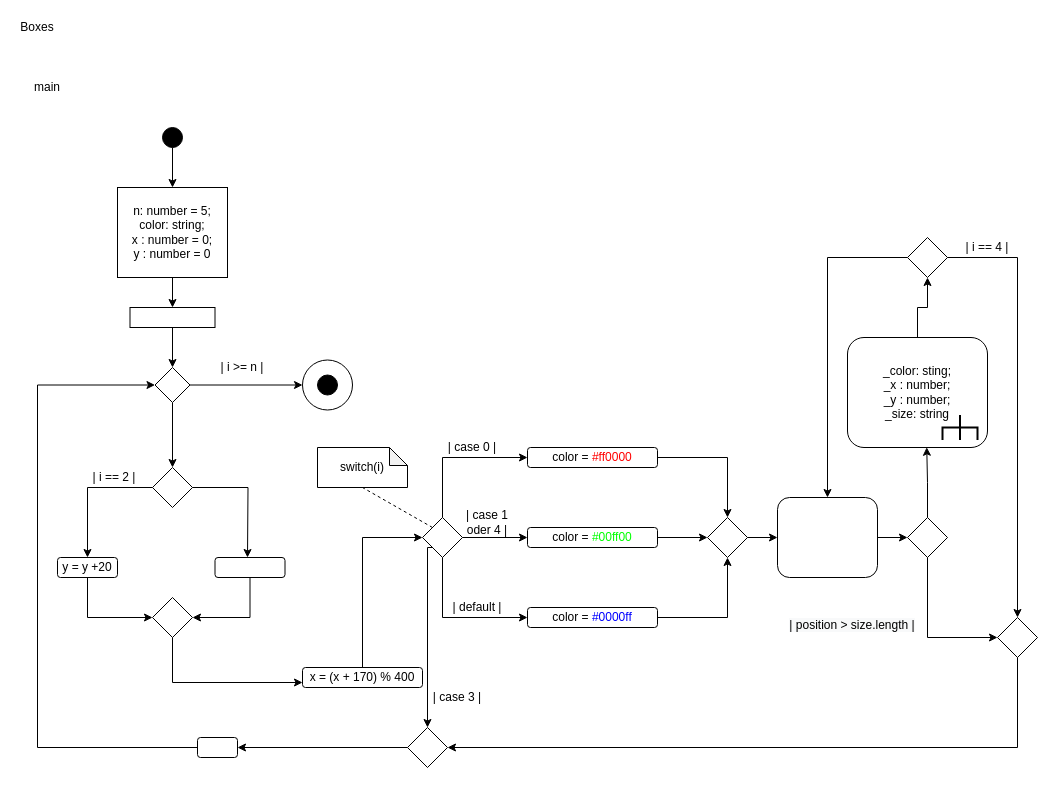
The diagram is 1055 pixels wide and 785 high, and some of its shapes have lost their labels. The shapes that lost their labels are listed below. From the top down, each one's box as (x1, y1, x2, y2) in pixels, then its label:
(129, 306, 215, 328): i : number = 0
(776, 496, 878, 578): Durchlauf size [] 0: "big" 1: "medium" 2: "small"
(214, 556, 285, 578): y = y + 50
(196, 736, 238, 758): i++
